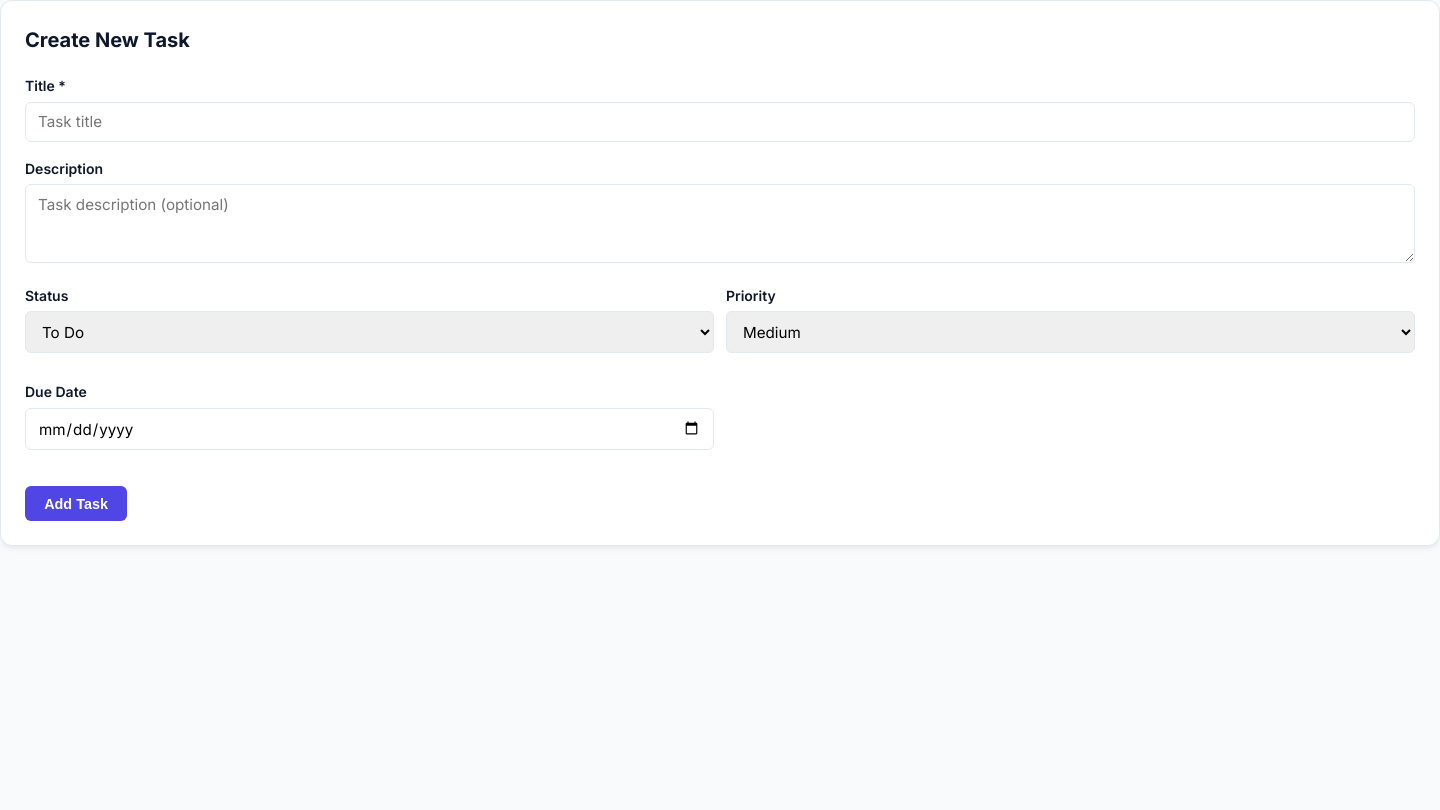
TaskForm Component › shows validation error if title is empty on submit
Click the button with test id "submit-button" at (76, 504), box [25,486,127,521]
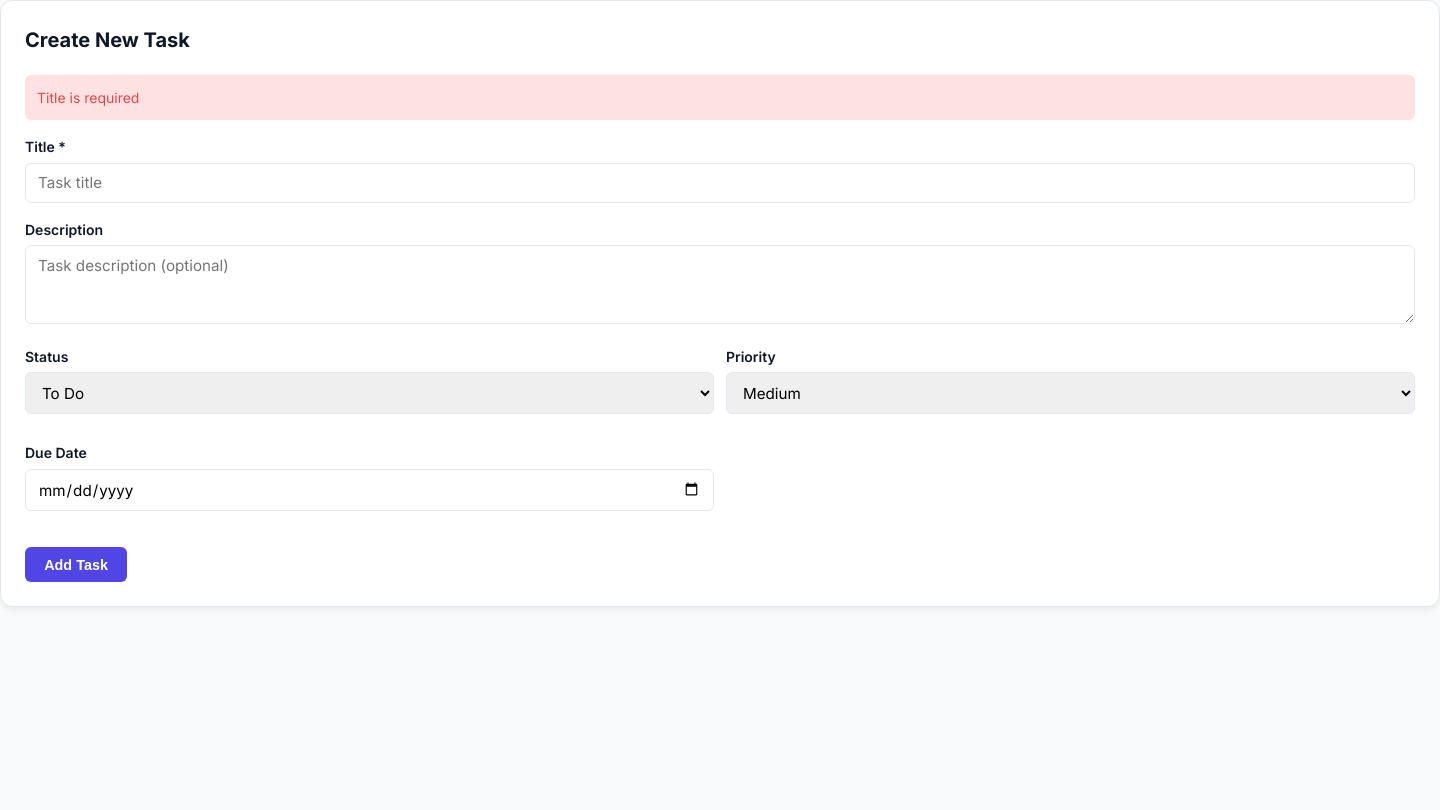
Expected: the message with test id "form-error" reads "Title is required", [37,89,139,106]
